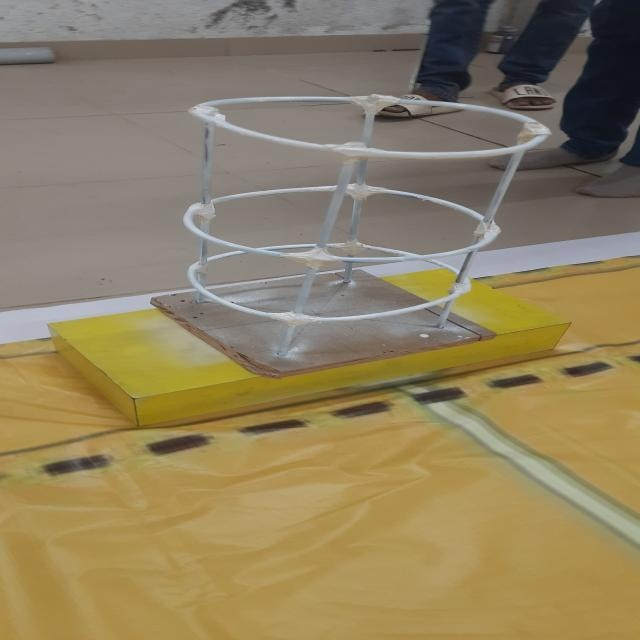silo: (150, 81, 566, 366)
